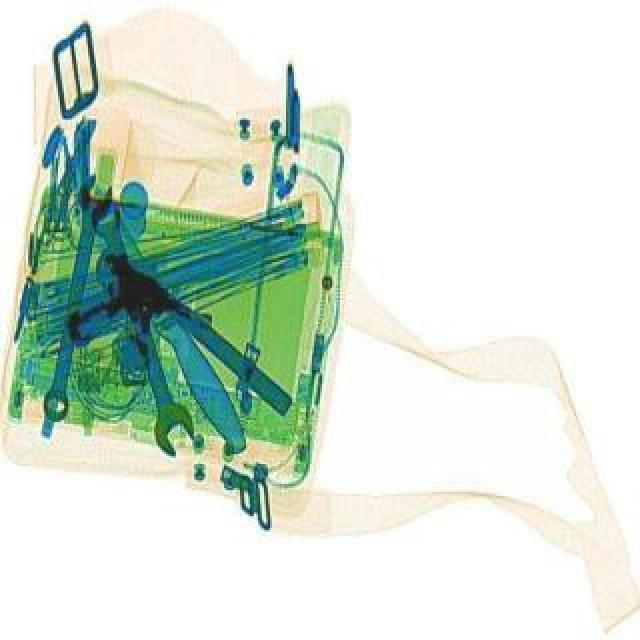gun: (44, 240, 222, 394)
knife: (76, 172, 252, 454)
scissors: (80, 192, 200, 458), (34, 168, 118, 418)
